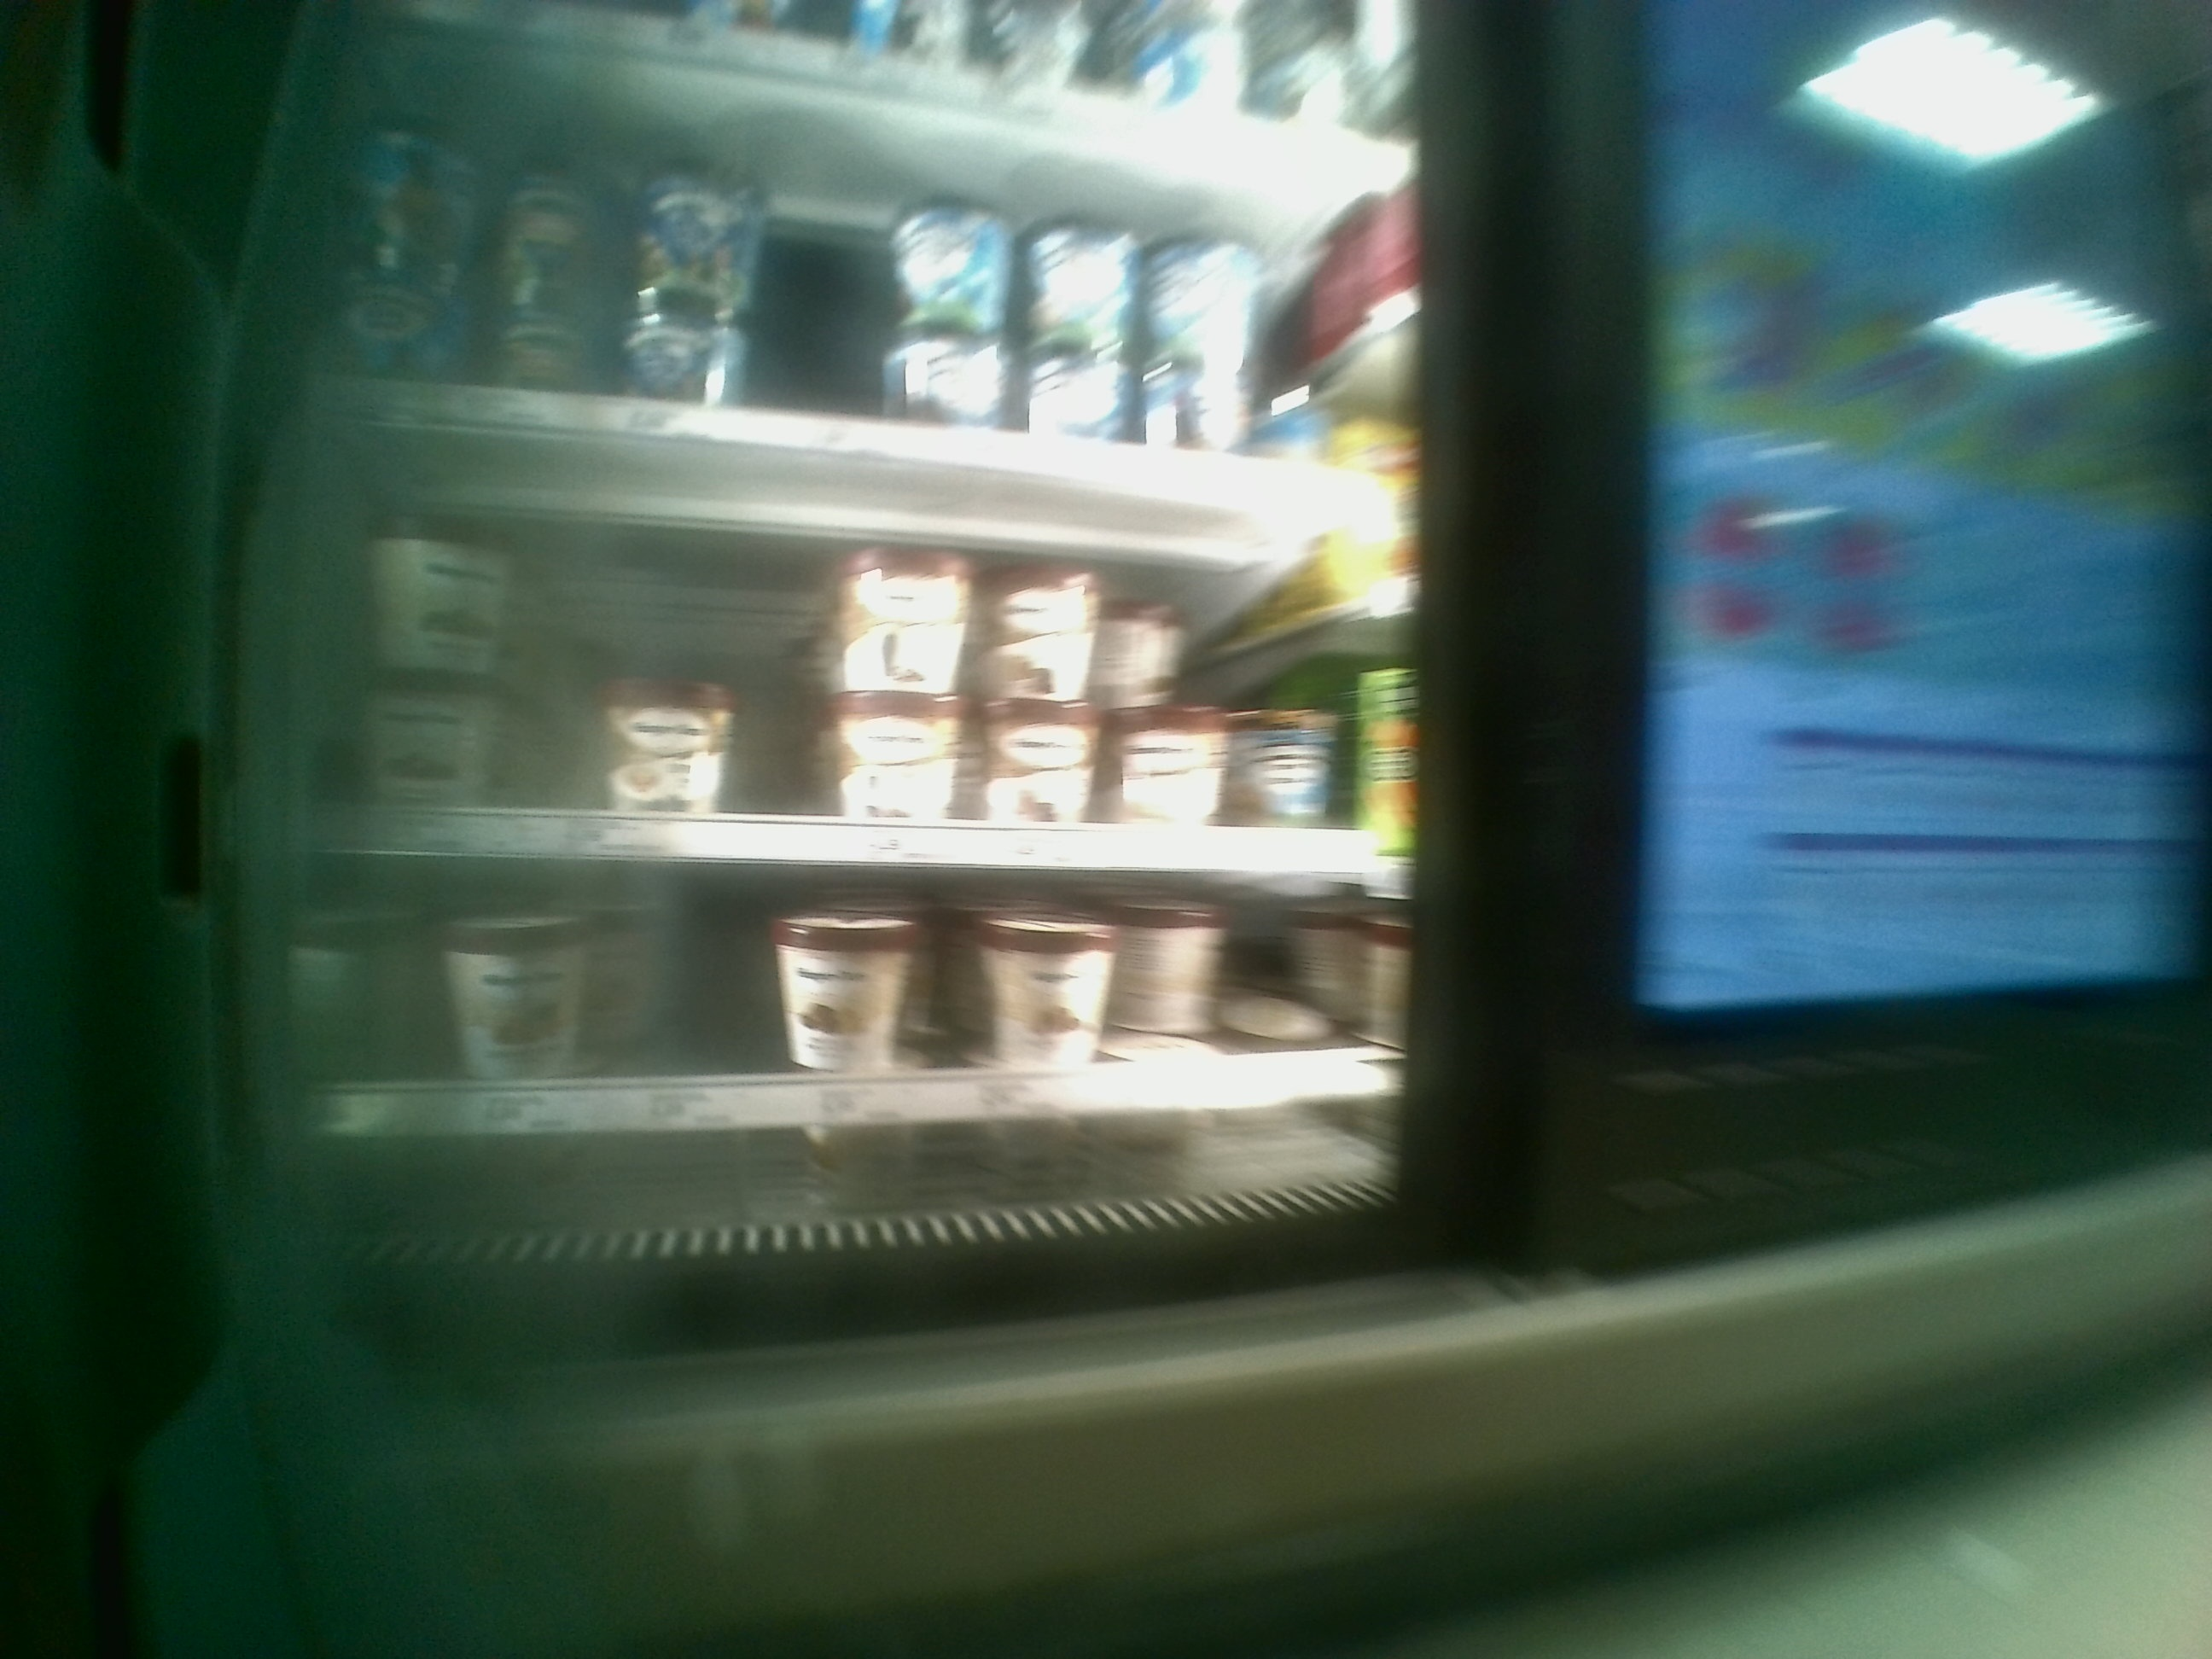shelf: (310, 401, 1418, 857), (314, 854, 1413, 1190)
